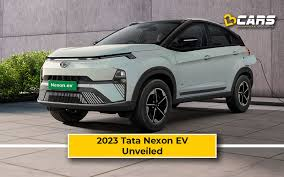Tata Nexon: (35, 11, 259, 134)
